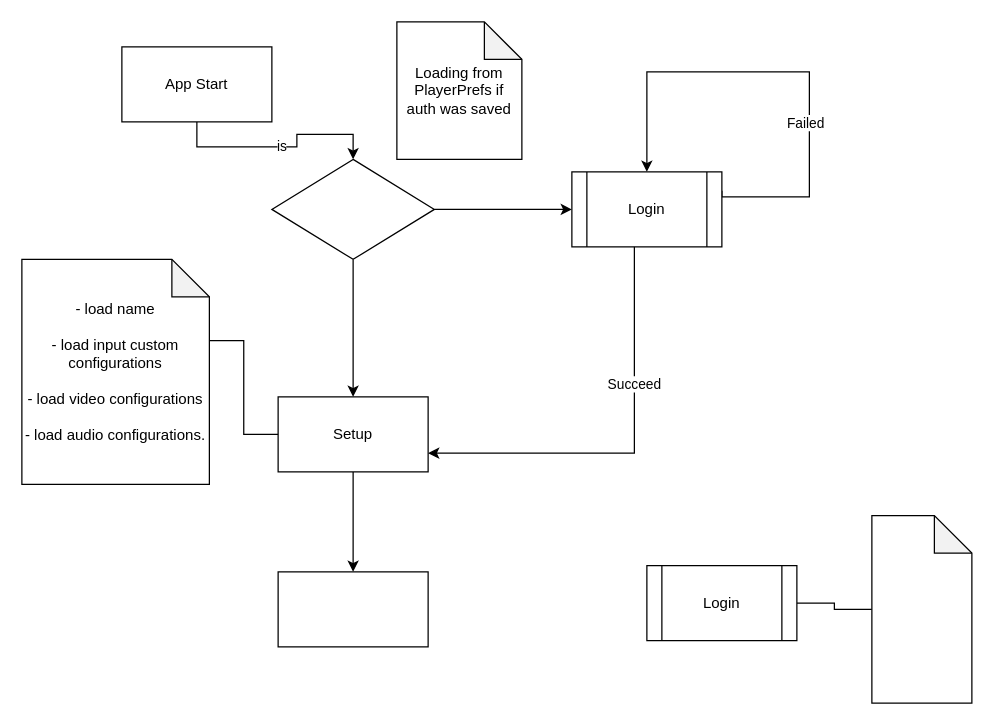
The diagram is 994 pixels wide and 725 high, and some of its shapes have lost their labels. The box of each missing label's shape, as (x1, y1, x2, y2) in pixels:
Authenticated: (271, 158, 434, 259)
Show Menu UI: (277, 571, 428, 647)
Use user password? OAuth? Steam?: (871, 514, 972, 703)
